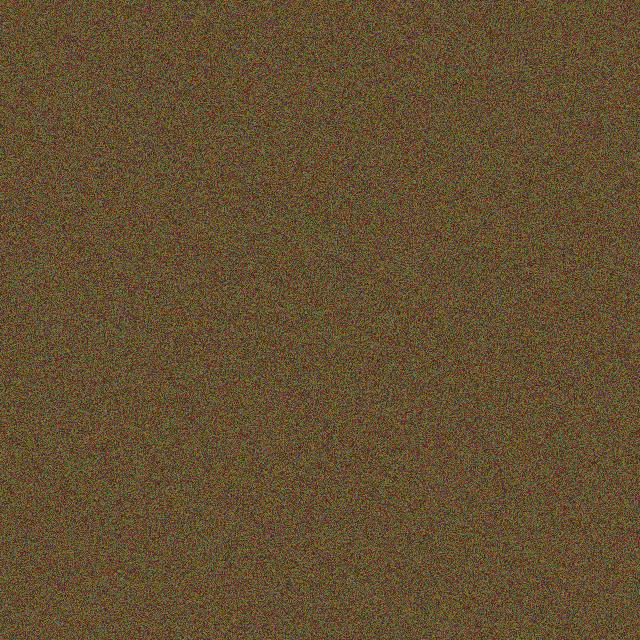unknown_man_made_object: (371, 121, 458, 157)
